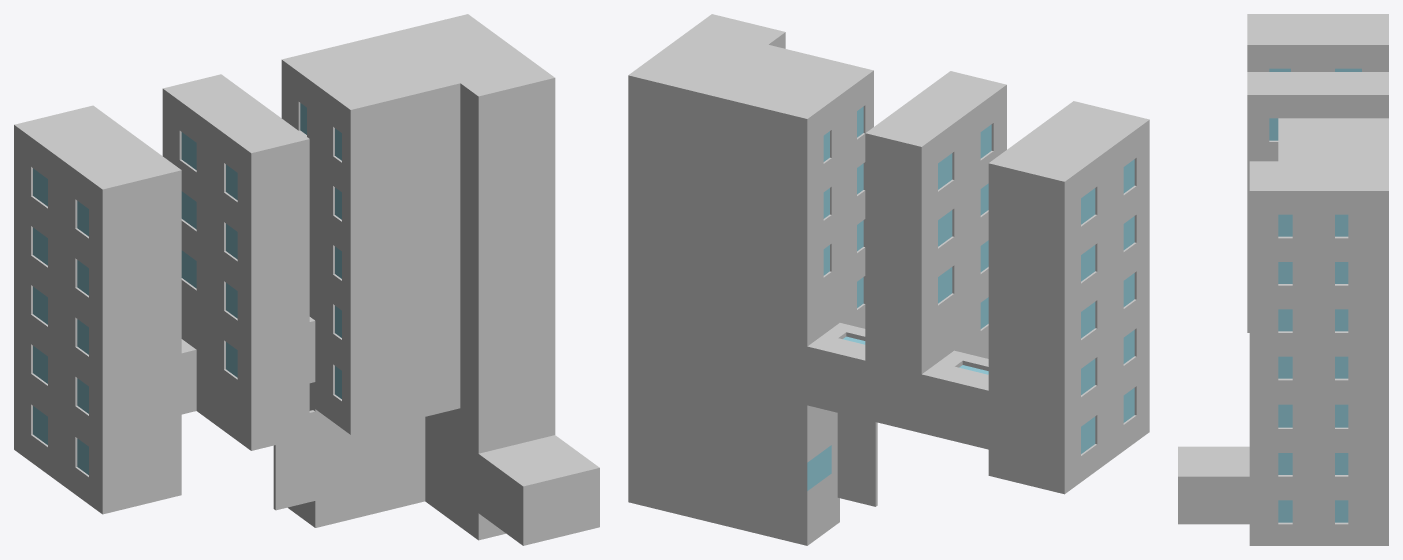
Rendered from 14_Hospital_model 5.fbx.
3 renders of one model, left to right at view 1: azimuth 30°, elevation 25°; view 2: azimuth 150°, elevation 25°; view 3: azimuth 270°, elevation 25°, orthographic. The views are drawn at different scales.
Visible parts, largest first — view 1: 立方体; view 2: 立方体; view 3: 立方体.
Boxes of the visible parts, x1=… form: 立方体: x1=14, y1=14, x2=599, y2=545; 立方体: x1=628, y1=14, x2=1149, y2=545; 立方体: x1=1178, y1=14, x2=1388, y2=545.
Size of the model in its own units: 1306 by 2426 by 2596.
